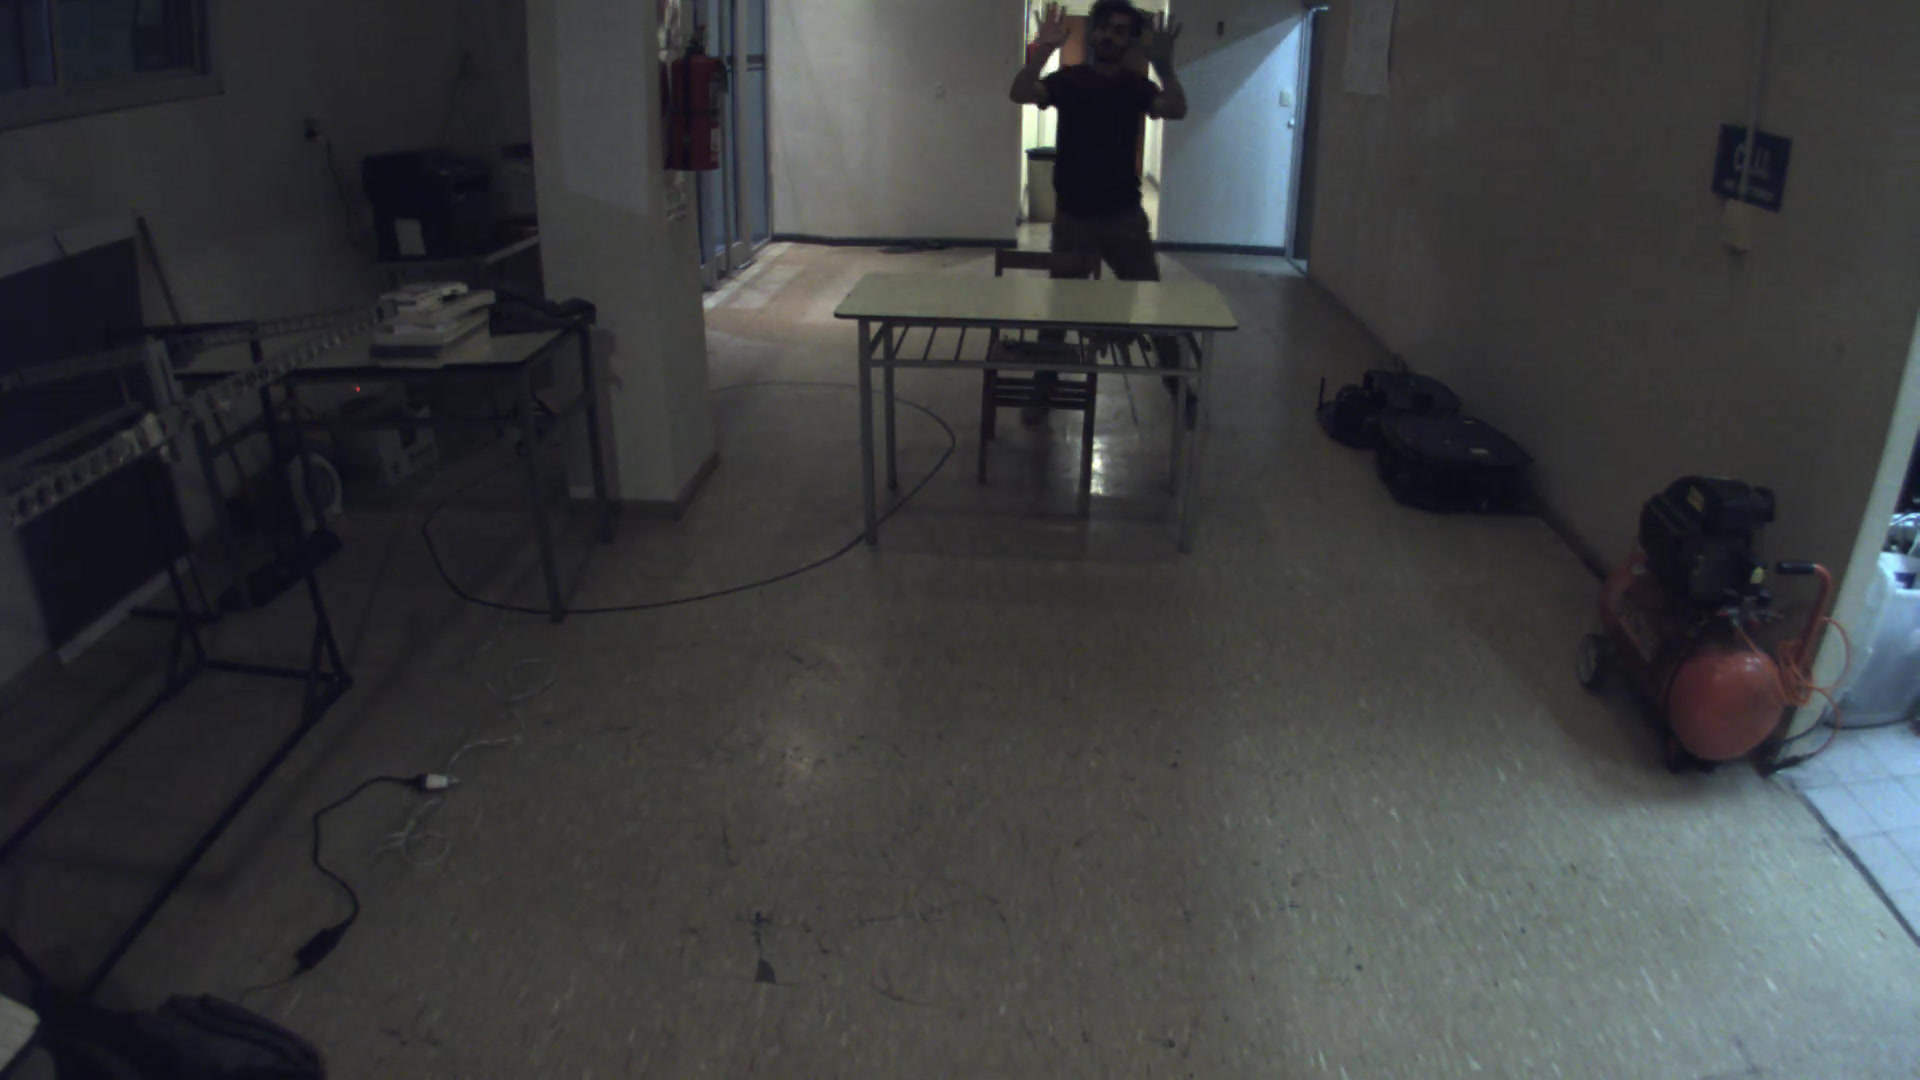hand: (1125, 1, 1185, 73), (1029, 1, 1088, 67)
